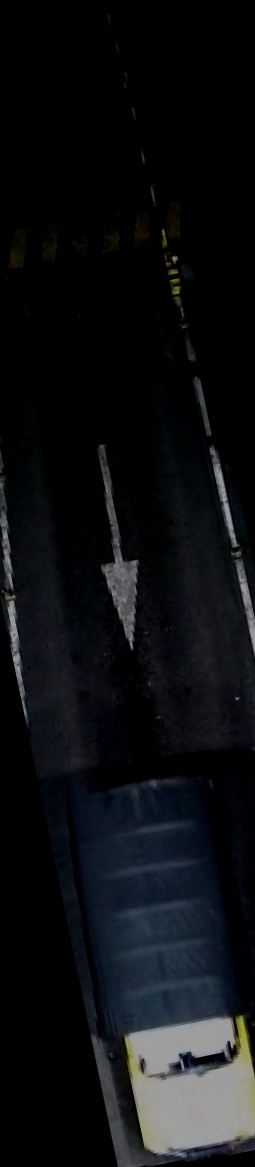truck: (63, 767, 255, 1158)
